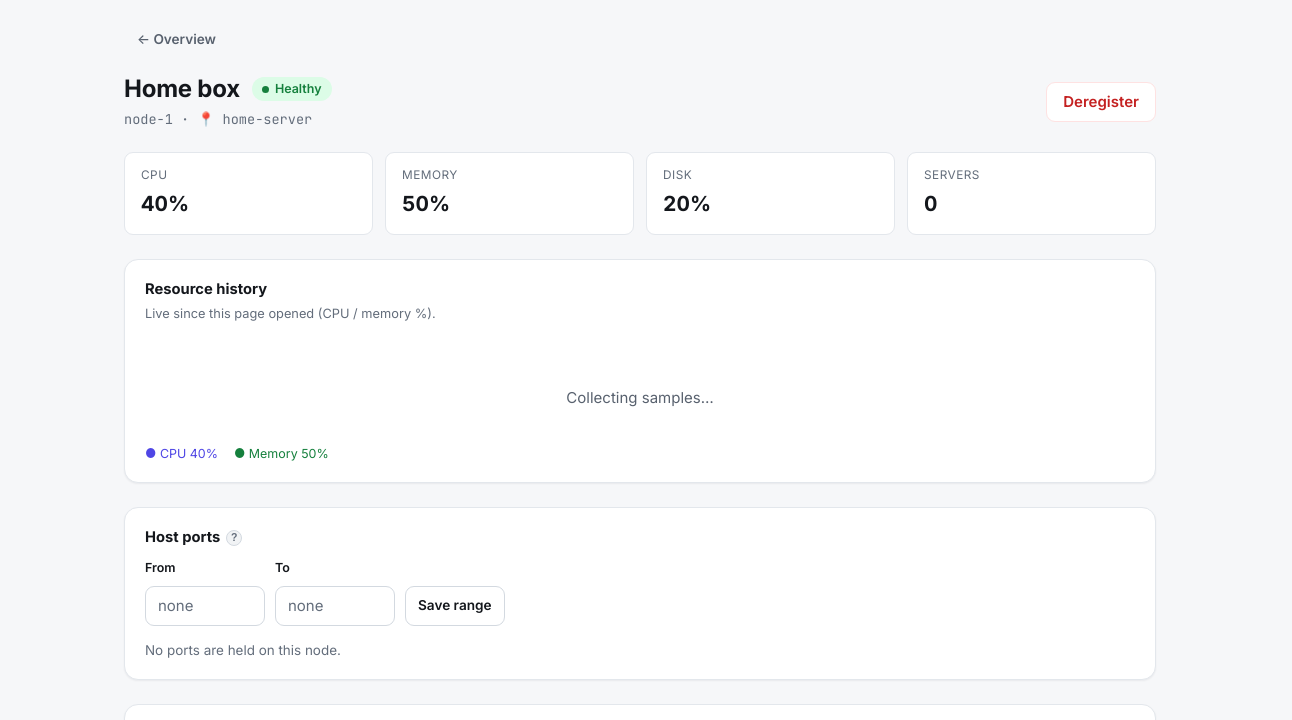
Scenario: NodeDetail host ports (#233) › saves a range and says what it left outside
Type "30000" into the number field named "Port range start" at {"x": 205, "y": 606}, box [145,586,265,626]
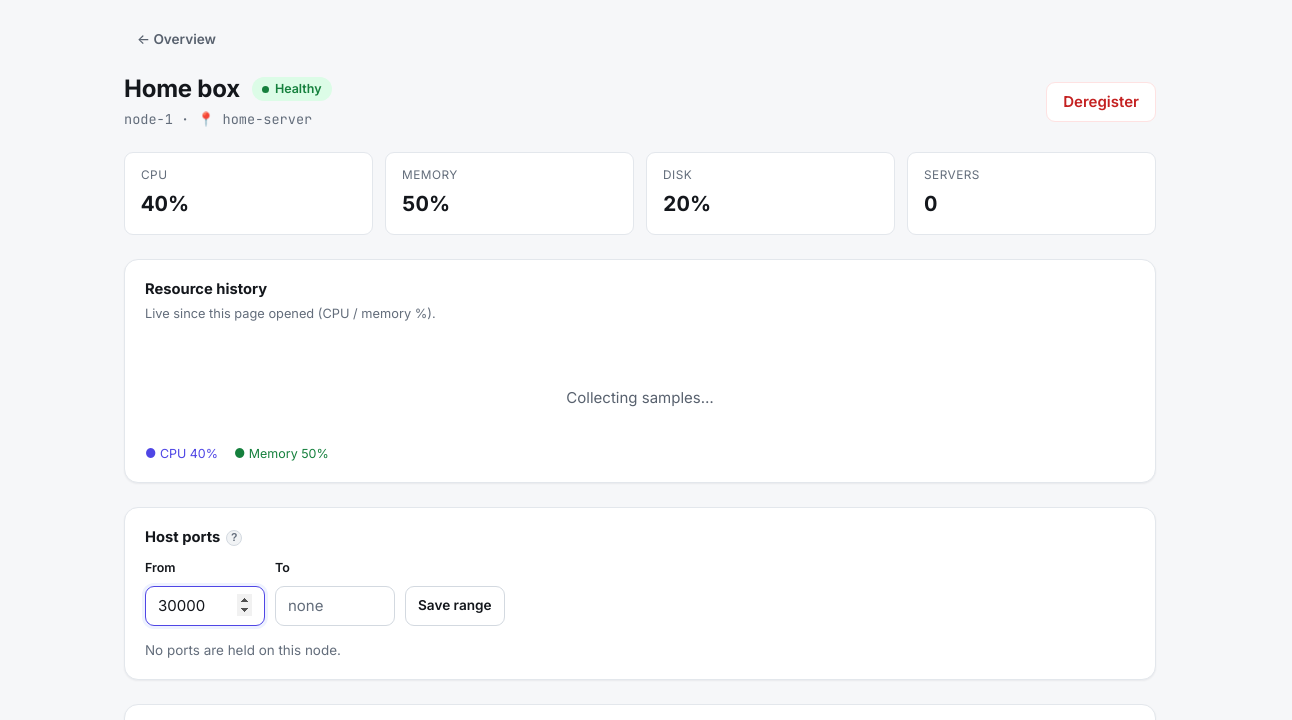
Type "30100" into the number field named "Port range end" at {"x": 335, "y": 606}, box [275,586,395,626]
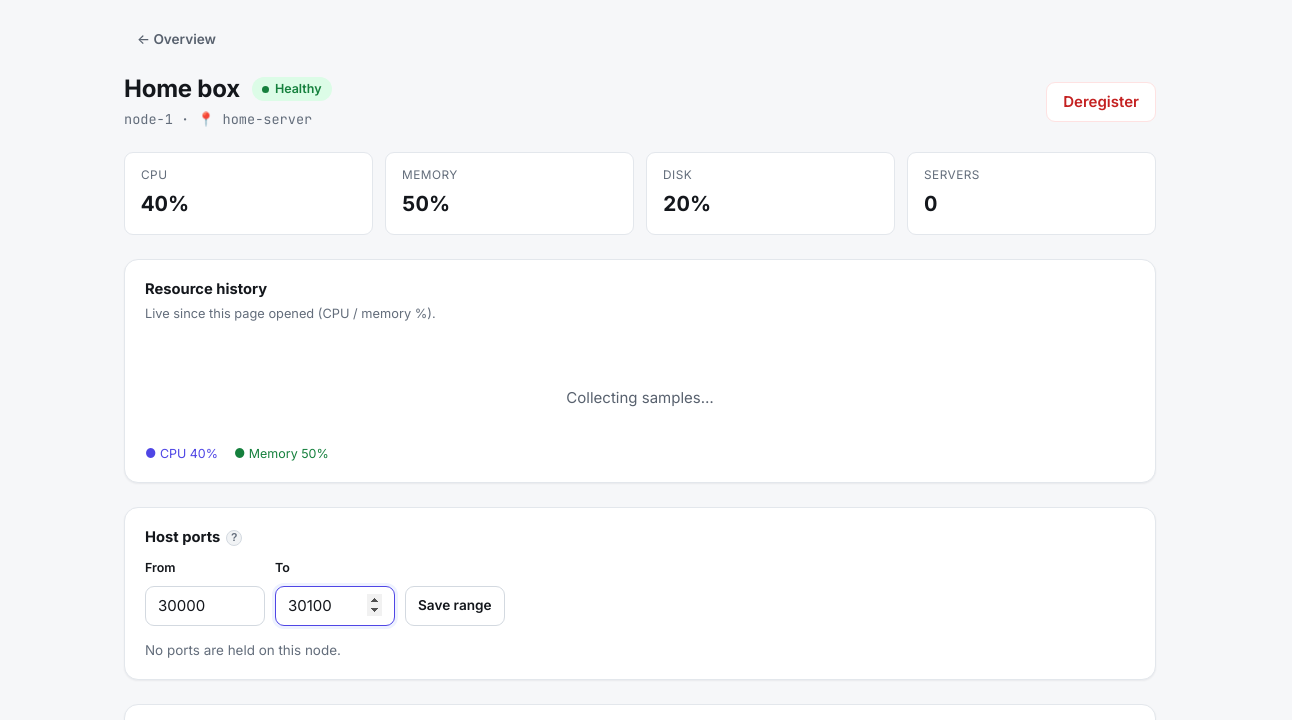
Click the button "Save range" at {"x": 455, "y": 606}, box [405,586,505,626]
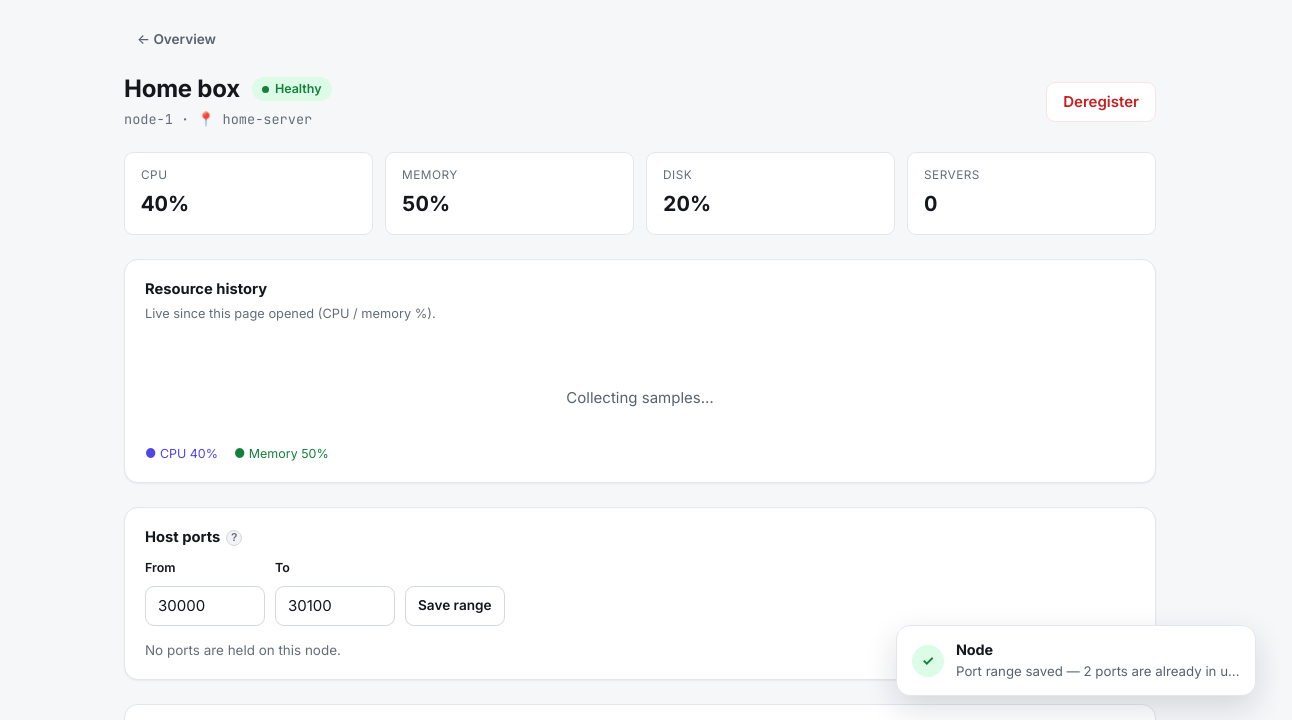
Check: the text "2 ports are already in use outside it and kept" is shown, box [956,663,1256,679]
